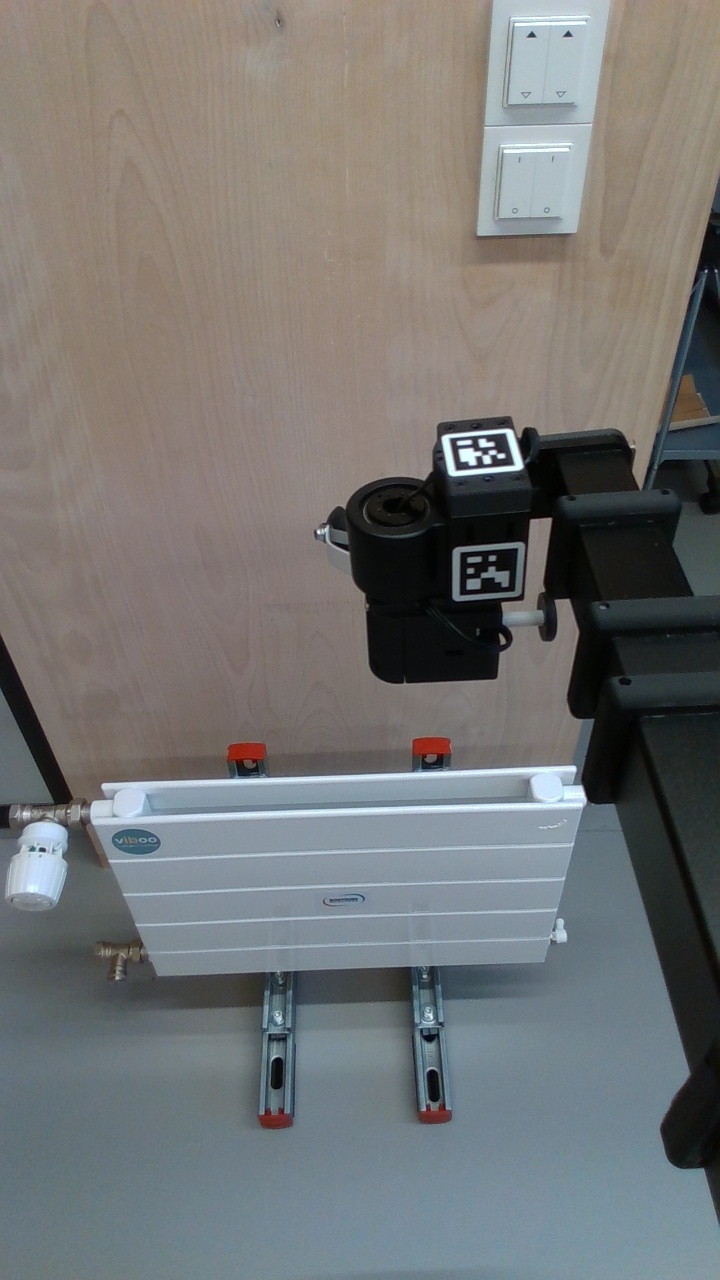Knob_Radiator: (1, 812, 76, 923)
Light_Switch: (492, 1, 596, 120), (476, 129, 584, 235)
Radiator: (87, 770, 570, 981)
